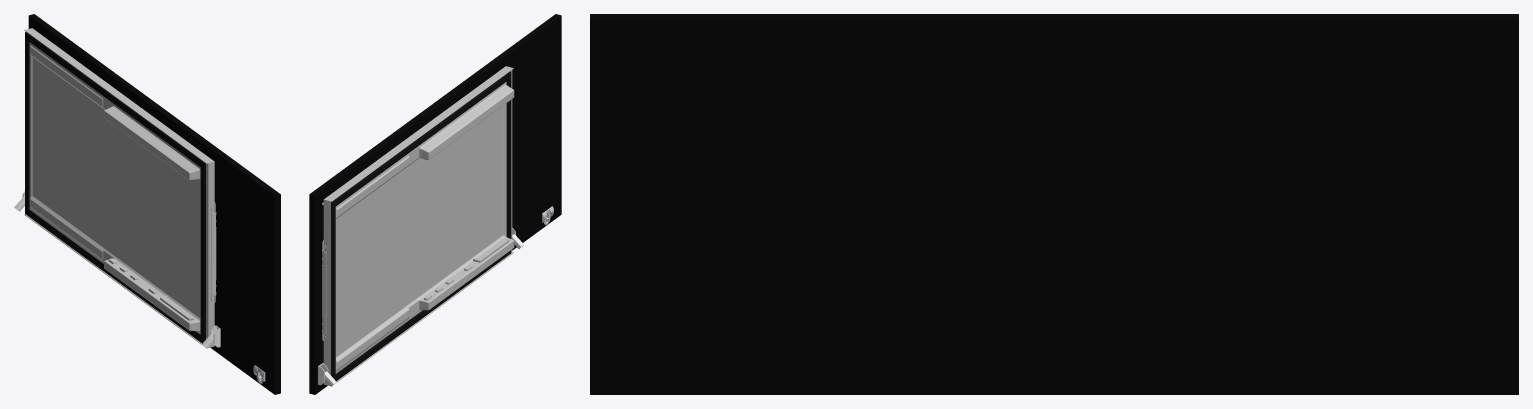
File: FridgeDoor01.obj
3 views of the same model, side by side, from view 1: azimuth 30°, elevation 25°; view 2: azimuth 150°, elevation 25°; view 3: azimuth 270°, elevation 25° (orthographic). The views are drawn at different scales.
Visible parts, largest first — view 1: FridgeDoor01; view 2: FridgeDoor01; view 3: FridgeDoor01.
Part boxes in pixels (x1,y1,x2,y2): FridgeDoor01: [14, 14, 280, 394]; FridgeDoor01: [309, 14, 561, 394]; FridgeDoor01: [590, 14, 1518, 394].
Bounding box in the file's own units: 0.0789 × 0.5969 × 1.34.
5 materials, 2 textured.
